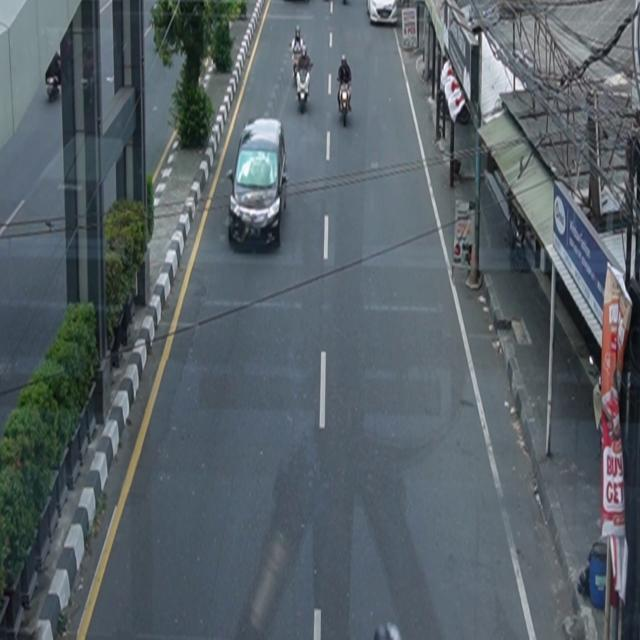car: (227, 117, 289, 249), (367, 1, 398, 26)
